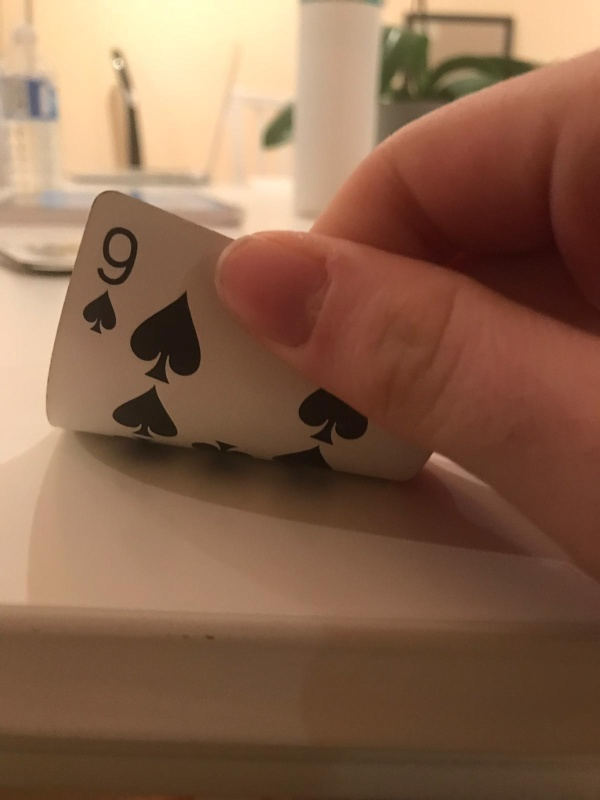S9: (80, 221, 138, 340)
